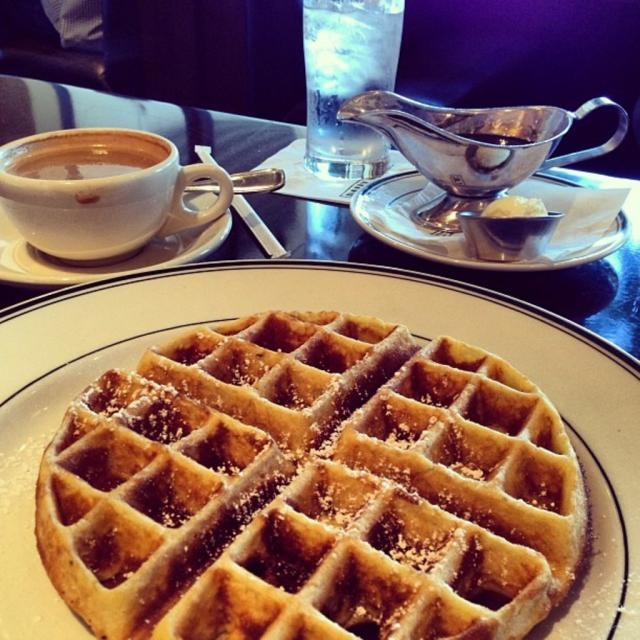Waffle: (32, 309, 594, 639)
